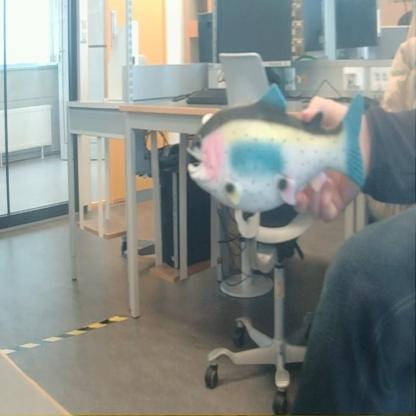rubberfish: (184, 80, 371, 215)
